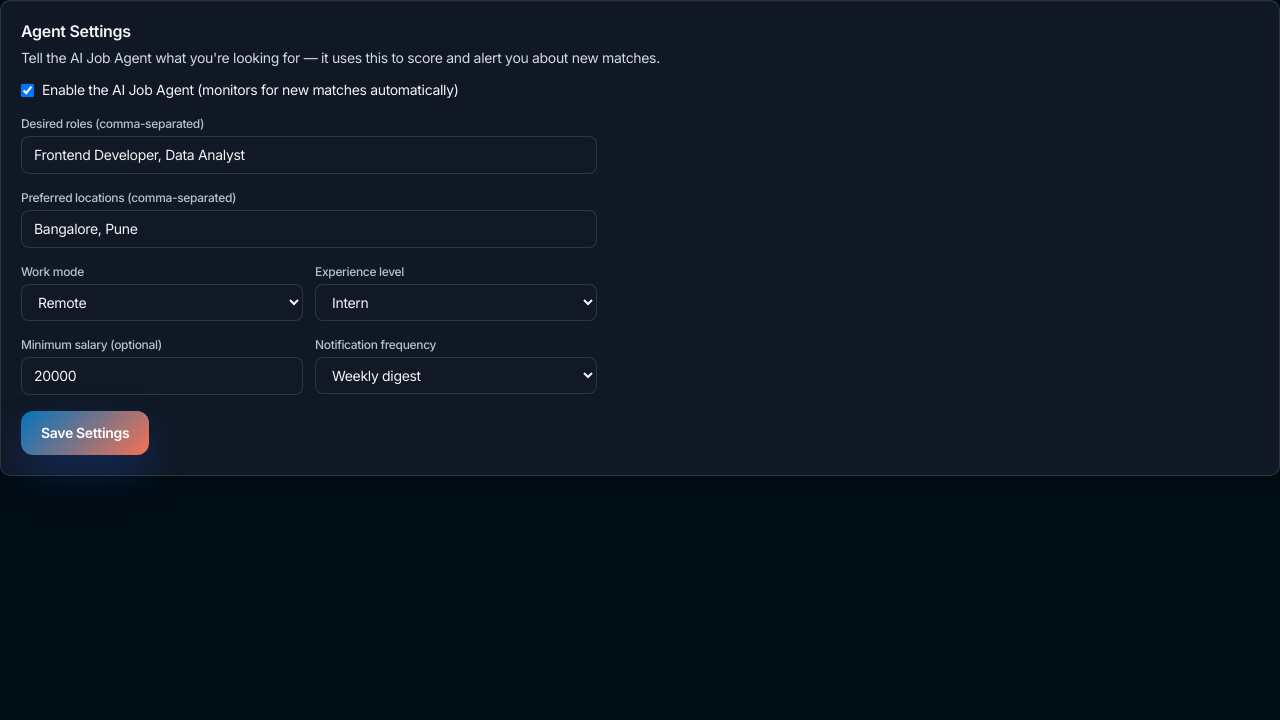
it: JobAgentSettingsPage › shows an error toast when saving fails on the server
Click the button "Save Settings". click: (85, 433)
box: [21,411,149,455]
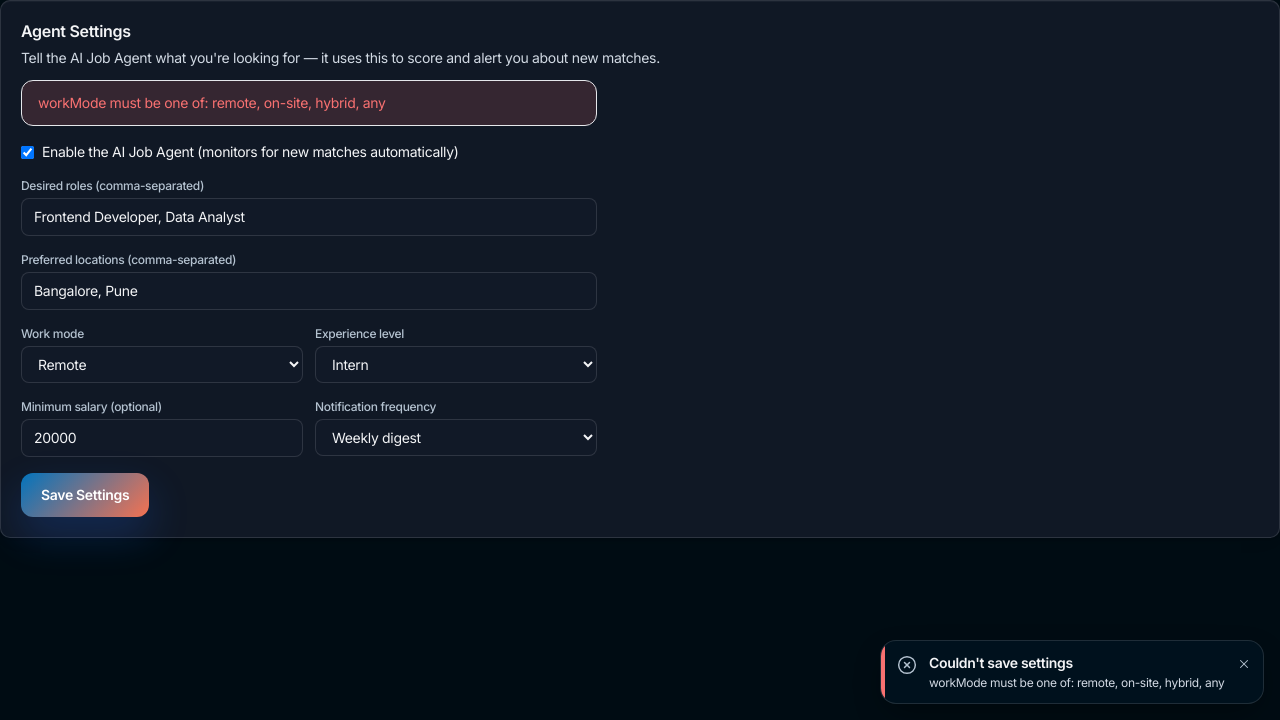
Result: the text "Couldn't save settings" is shown at [929,654,1073,671]
